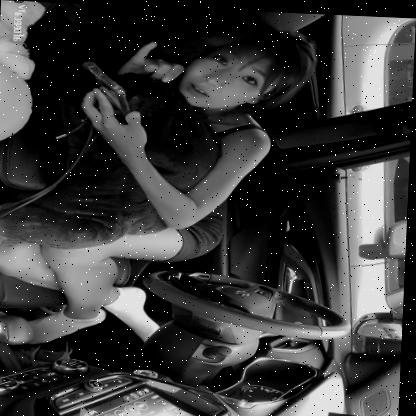streamer: (0, 15, 315, 354)
